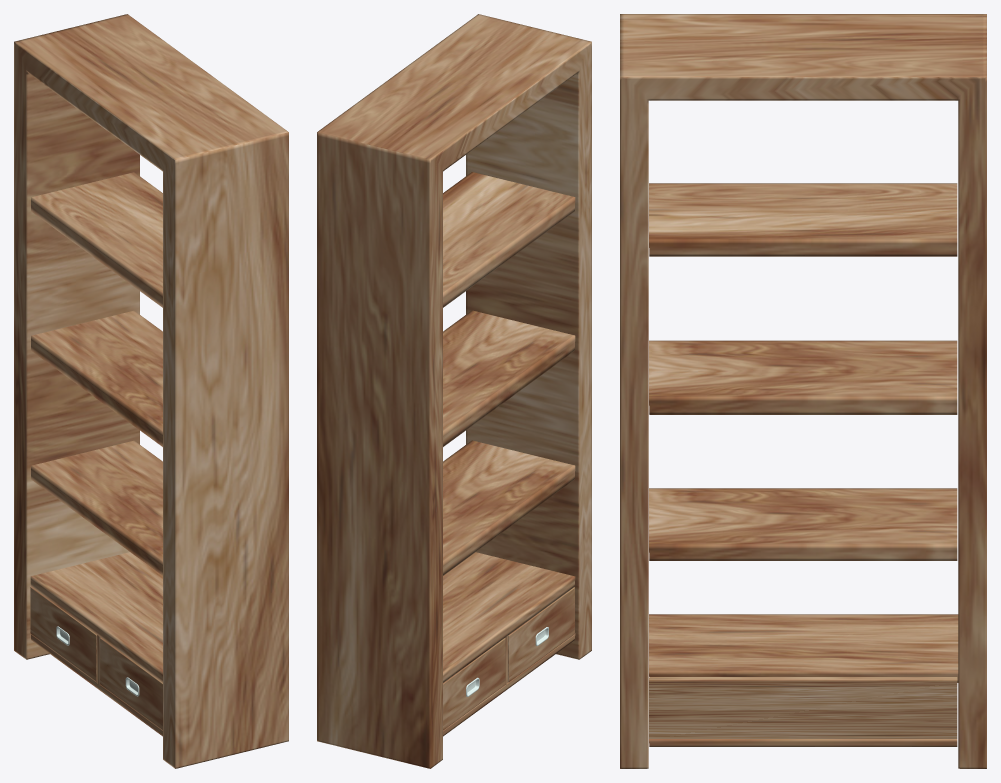
File: shelve_02.obj
3 views of the same model, side by side, from view 1: azimuth 30°, elevation 25°; view 2: azimuth 150°, elevation 25°; view 3: azimuth 270°, elevation 25° (orthographic). The views are drawn at different scales.
Parts seen in each view (by area): view 1: shelve_02; view 2: shelve_02; view 3: shelve_02.
Part boxes in pixels (x1,y1,x2,y2): shelve_02: (14,14,288,768); shelve_02: (317,14,591,768); shelve_02: (620,14,986,768).
Bounding box in the file's own units: 1.48 × 7.57 × 3.64.
